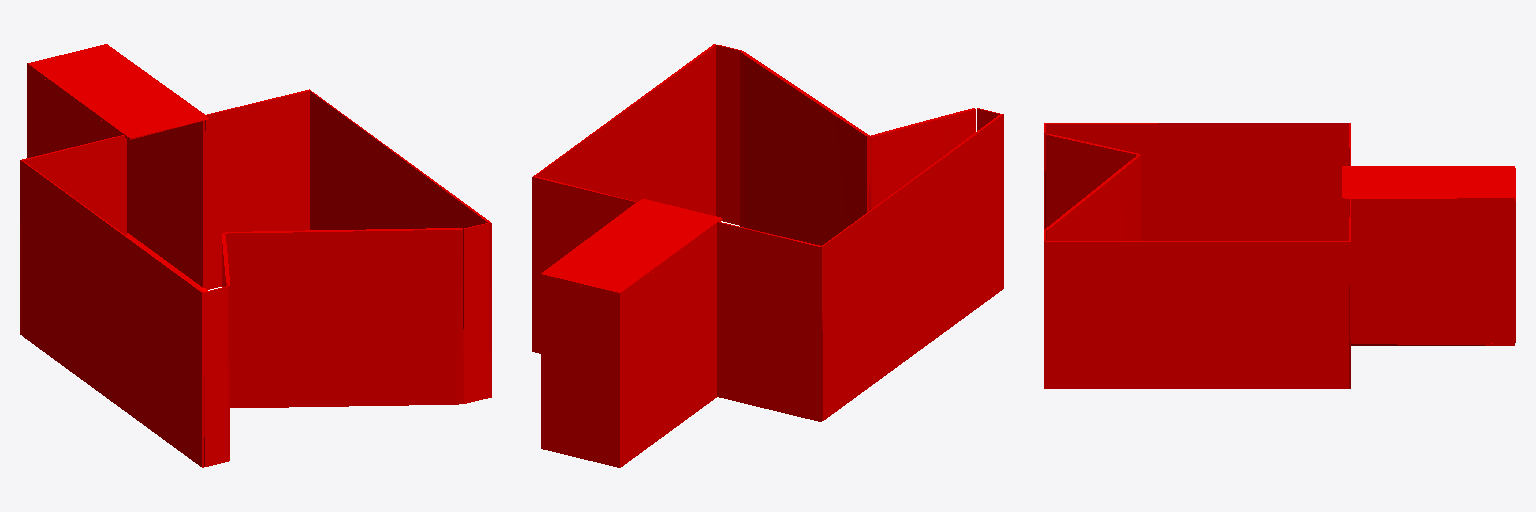
robot.urdf — jaw-gripper:
<?xml version="1.0"?>
<robot name="jaw-gripper">

  <link name="base_link">
    <visual>
      <geometry>
        <mesh filename="package://asset/real-world/jaw-gripper/jaw-gripper-vhacd.obj" scale="1 1 1"/>
      </geometry>
      <material name="color">
        <color rgba="1 0 0 1"/> <!-- Red. a: transparency. -->
      </material>
    </visual>
    <collision>
      <geometry>
        <mesh filename="package://asset/real-world/jaw-gripper/jaw-gripper-vhacd.obj" scale="1 1 1"/>
      </geometry>
    </collision>
    <inertial>
      <mass value="26"/> 
      <origin xyz="0 0 0"/> 
      <inertia ixx="1" iyy="1" izz="1"/> 
    </inertial>

  </link>

</robot>

--- Facts derived from the render (not from the file) ---
Views: 3 orthographic renders of the robot side by side, from view 1: azimuth 30°, elevation 25°; view 2: azimuth 150°, elevation 25°; view 3: azimuth 270°, elevation 25°.
Robot: jaw-gripper — 1 links, 0 joints (none); root link base_link; default pose: all joints at 0.
Links seen in each view (by area): view 1: base_link; view 2: base_link; view 3: base_link.
Link boxes in pixels (x1,y1,x2,y2): base_link: [20, 44, 491, 467]; base_link: [532, 44, 1003, 467]; base_link: [1044, 123, 1515, 388].
Size in the robot's own frame: 0.5241 by 0.8767 by 0.303 metres.
1 mesh visuals loaded from 1 distinct referenced files (1 OBJ).